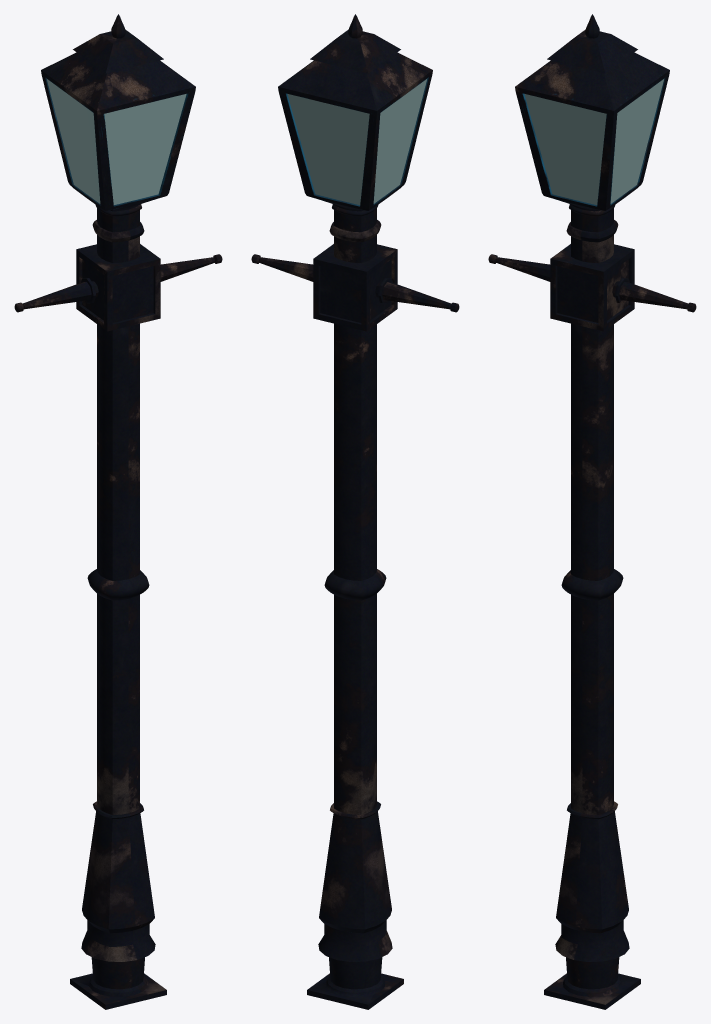
File: LampFinal.fbx
3 views of the same model, side by side, from view 1: azimuth 30°, elevation 25°; view 2: azimuth 150°, elevation 25°; view 3: azimuth 330°, elevation 25° (orthographic).
Parts seen in each view (by area): view 1: Box001; view 2: Box001; view 3: Box001.
Part boxes in pixels (x1,y1,x2,y2): Box001: (14, 14, 222, 1009); Box001: (251, 14, 459, 1009); Box001: (488, 14, 696, 1009).
Size of the model in its own units: 146 by 667 by 69.29.
